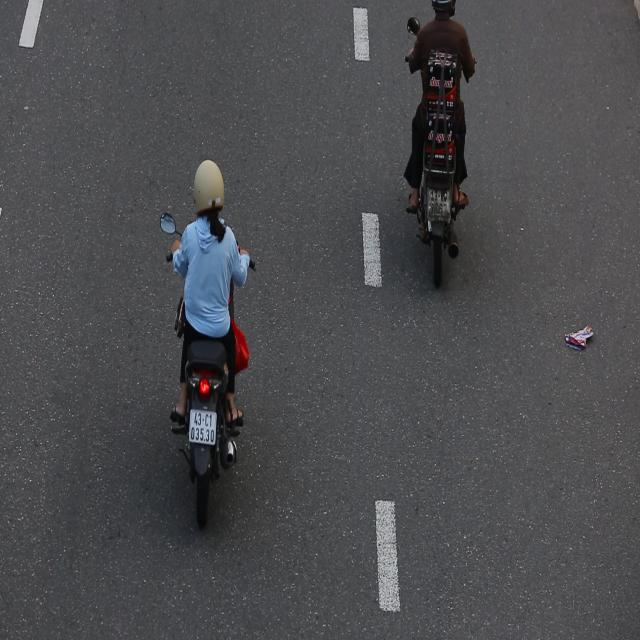motorbike: (157, 152, 261, 549)
